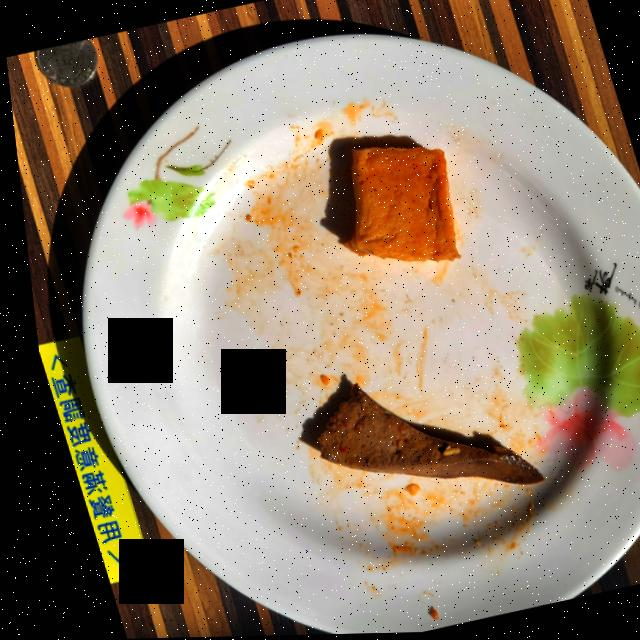coin: (34, 38, 96, 87)
creamy tofu: (339, 147, 454, 262)
pig liver: (307, 384, 532, 486)
